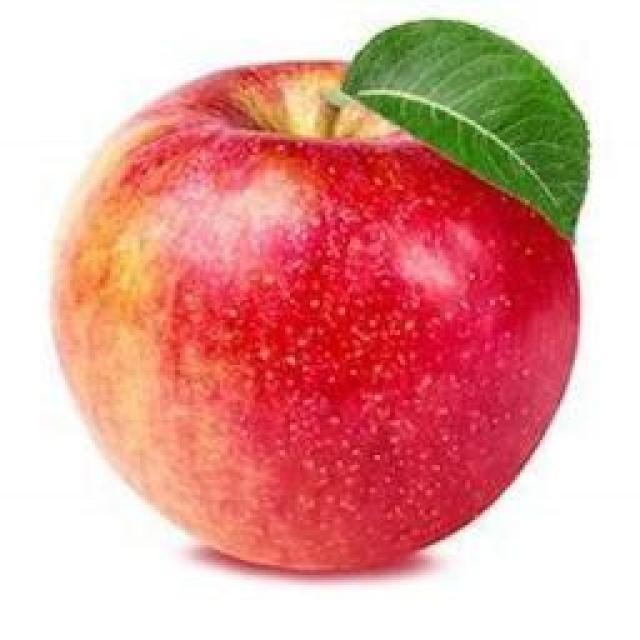Apple: (55, 21, 589, 571)
